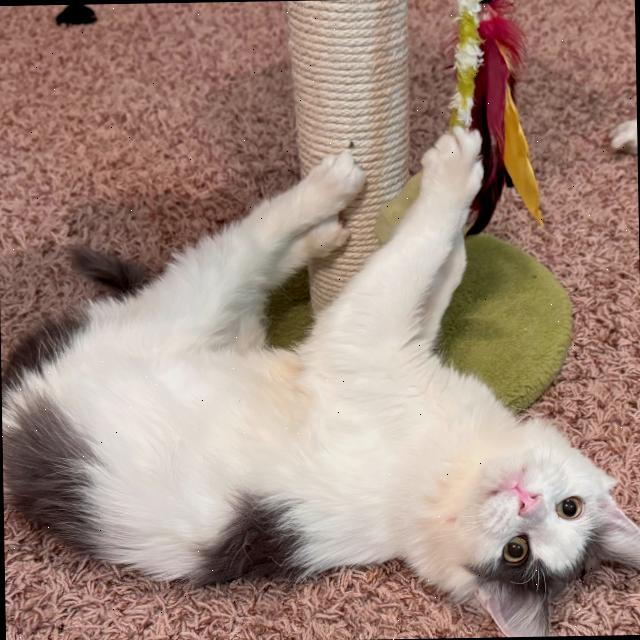domestic_long_hair_cat: (386, 406, 640, 638)
